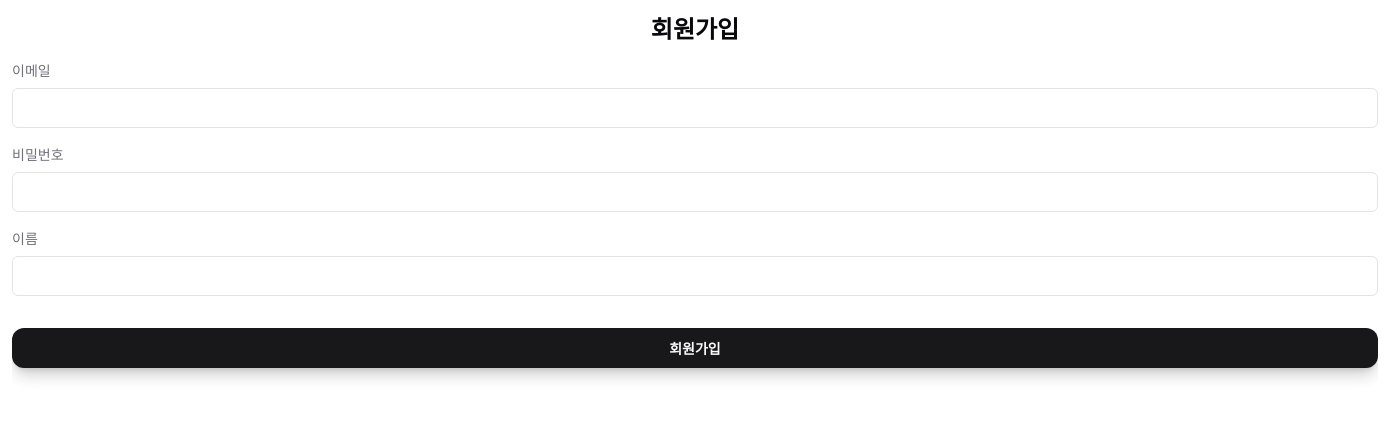
Scenario: SignUpForm › displays validation error when password is less than 8 chars
Type "test@example.com" into the field labelled "이메일" at [695, 108], box [12,88,1378,128]
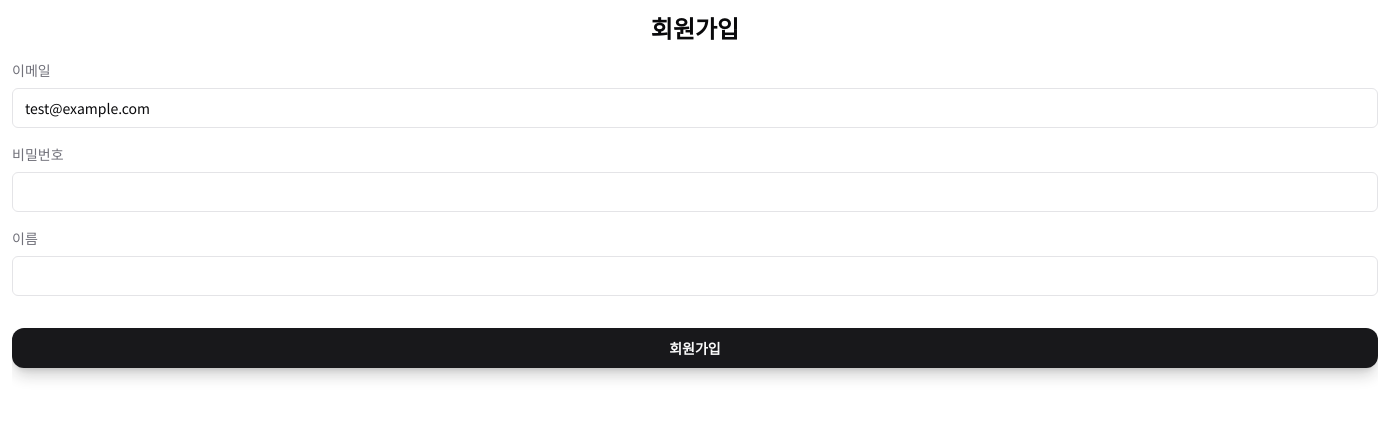
Type "short" into the password field labelled "비밀번호" at [695, 192], box [12,172,1378,212]
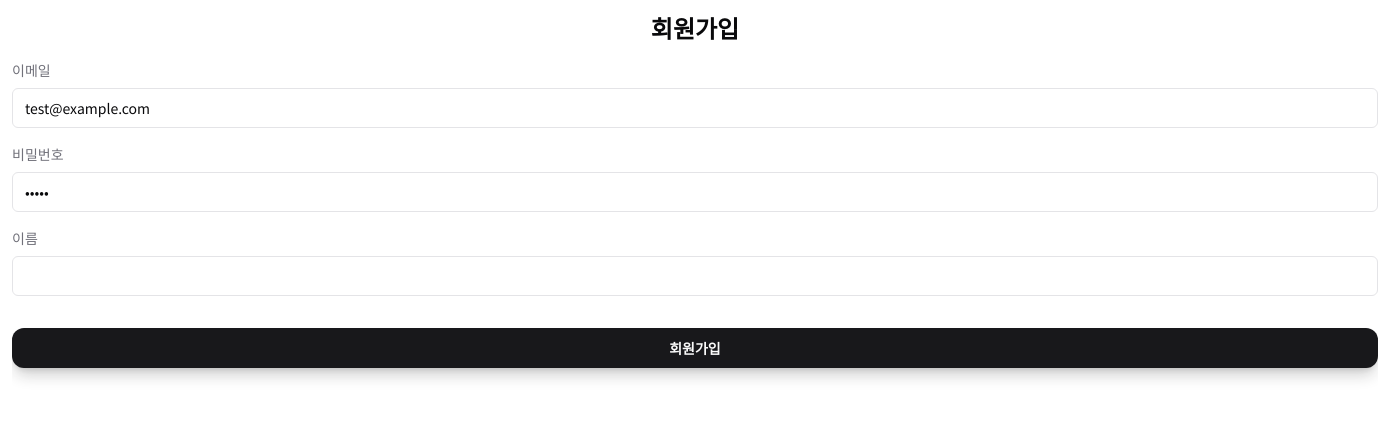
Type "홍길동" into the field labelled "이름" at [695, 276], box [12,256,1378,296]
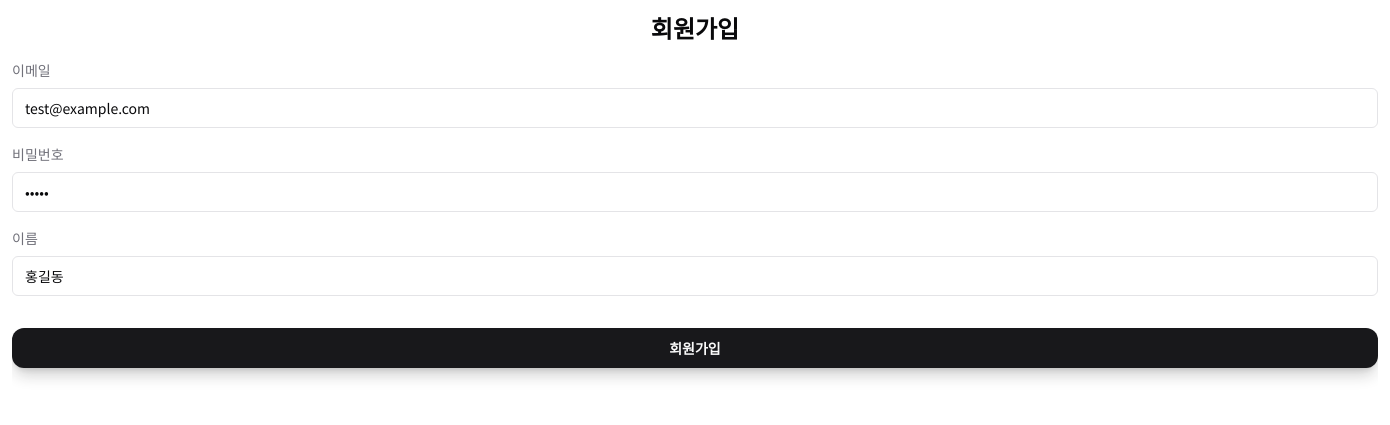
Submit the form labelled "이메일"
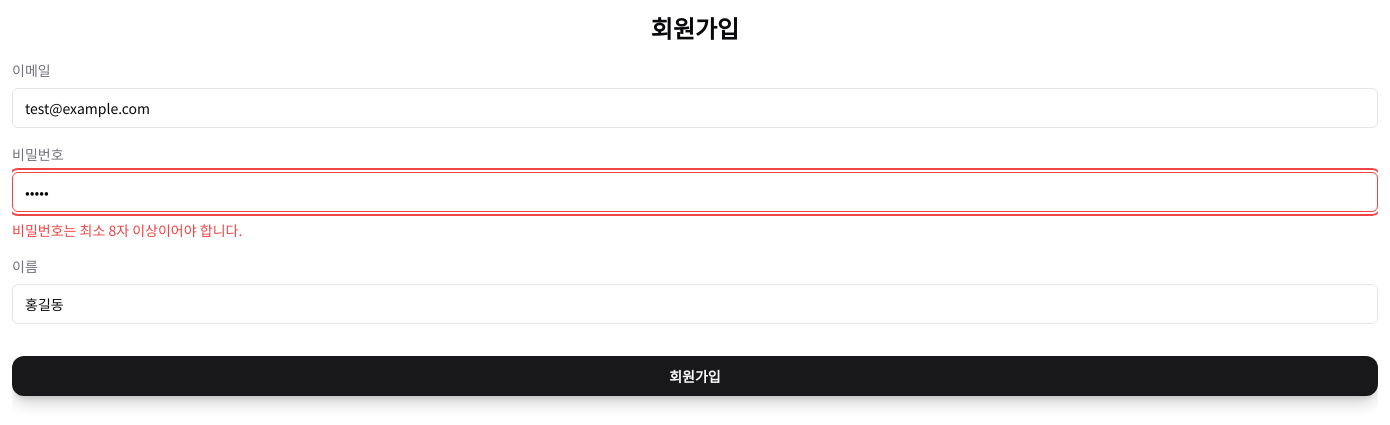
Expected: the text "비밀번호는 최소 8자 이상이어야 합니다." is shown, [12,220,242,240]
